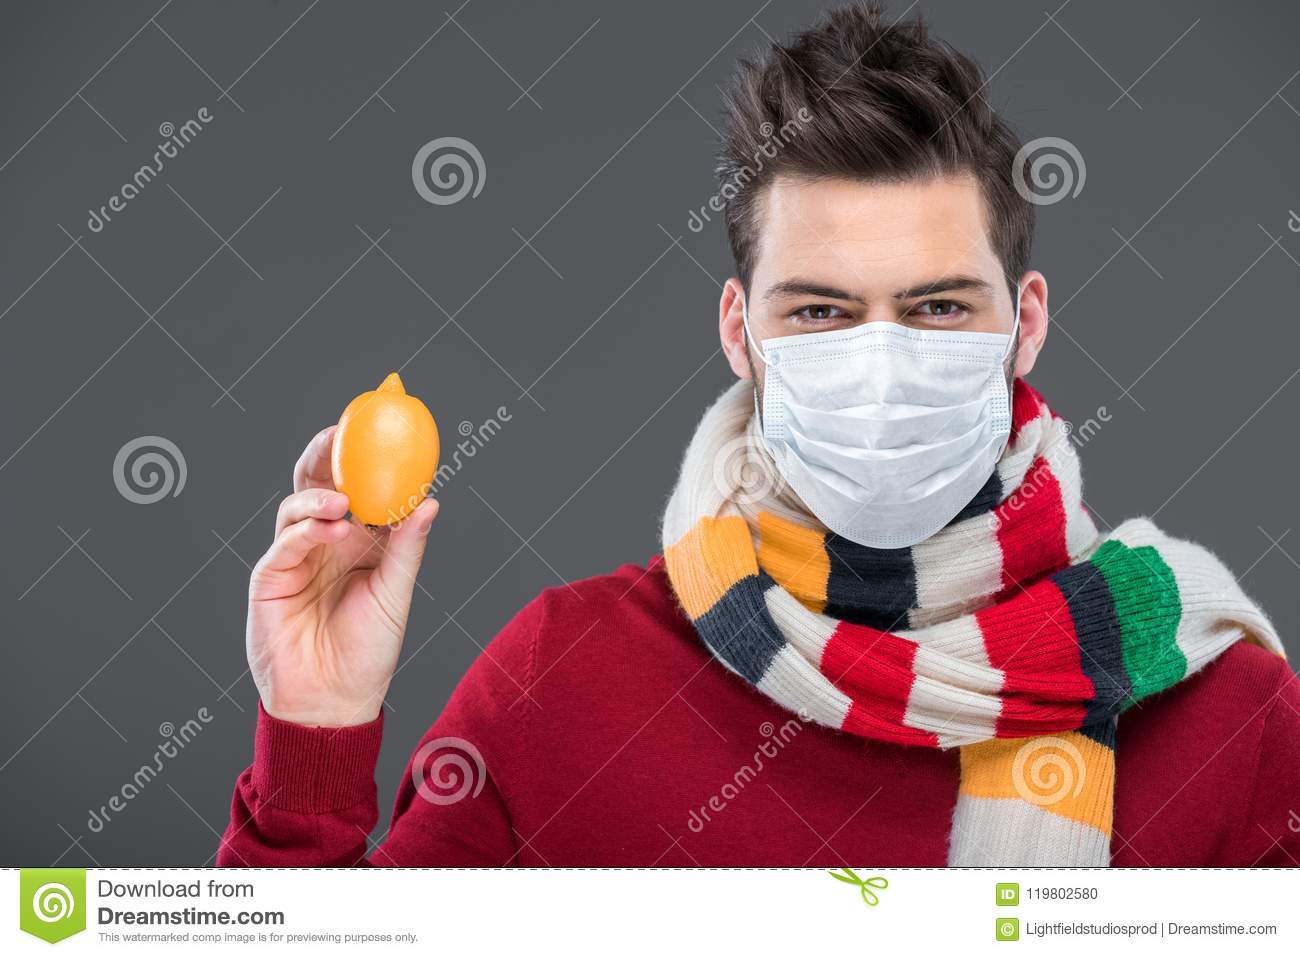mask: (765, 324, 1016, 555)
